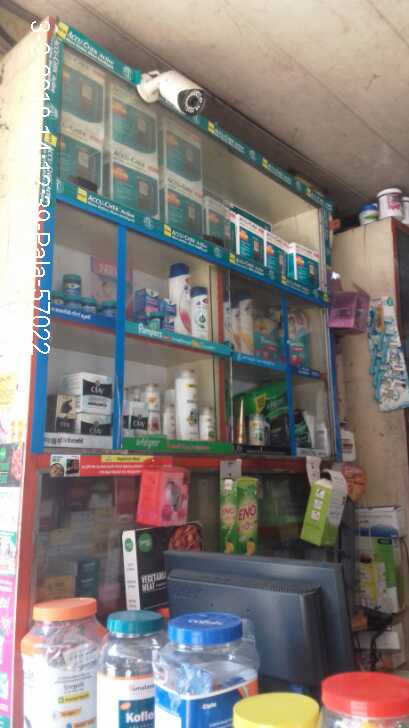vicks: (46, 277, 119, 328), (129, 288, 178, 328)
